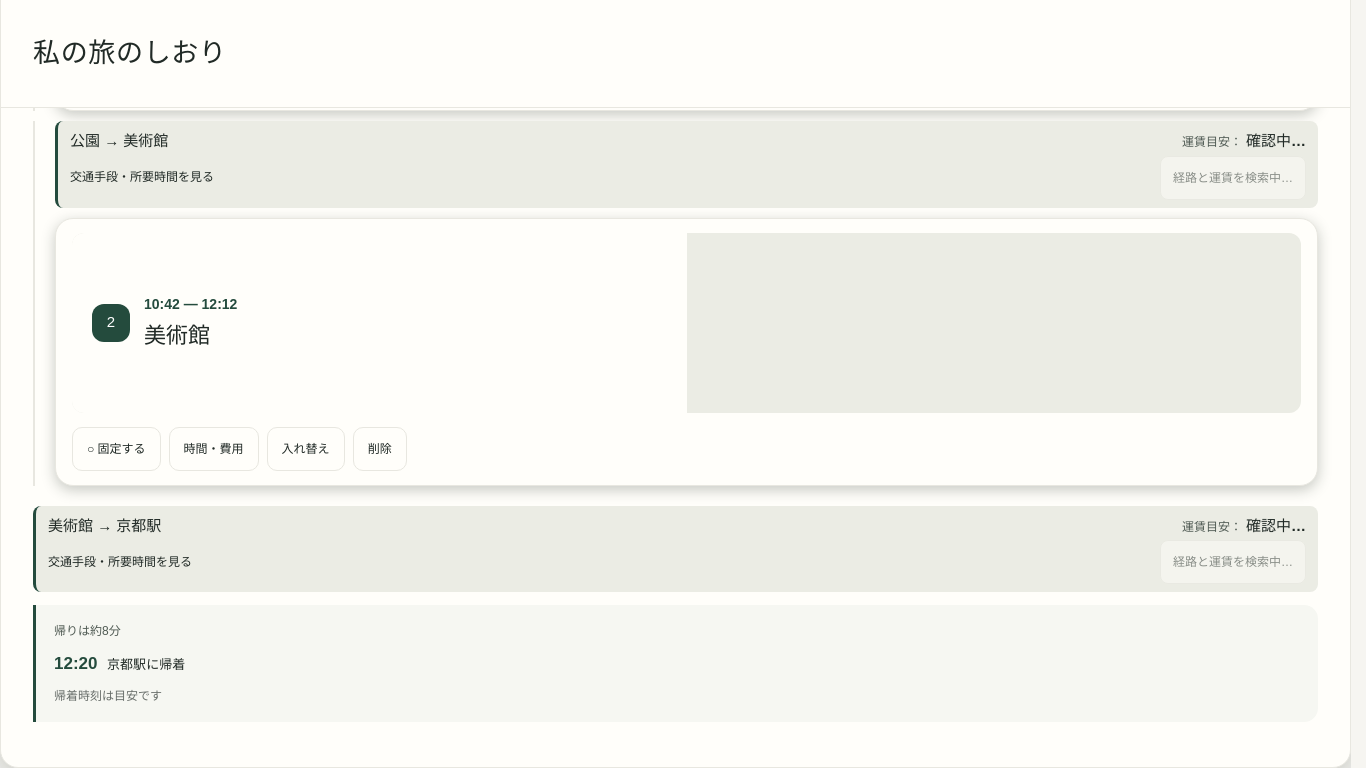
it: DayTripEditor › offers a clear empty itinerary without editing controls
(page scrolled)
Click the button with aria-label "美術館を削除": [380, 449] box left=353, top=427, right=407, bottom=471
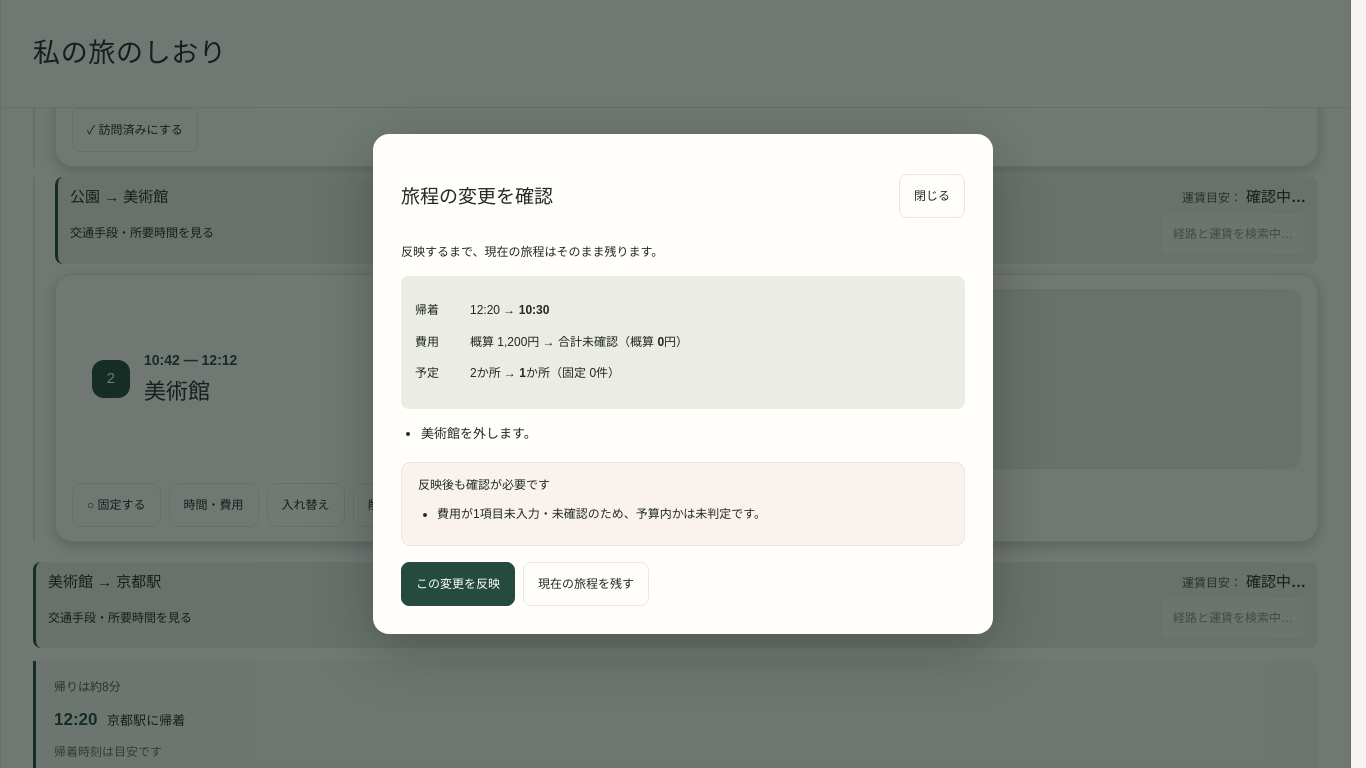
Click the button "この変更を反映": [458, 584] box left=401, top=562, right=515, bottom=606
(page scrolled)
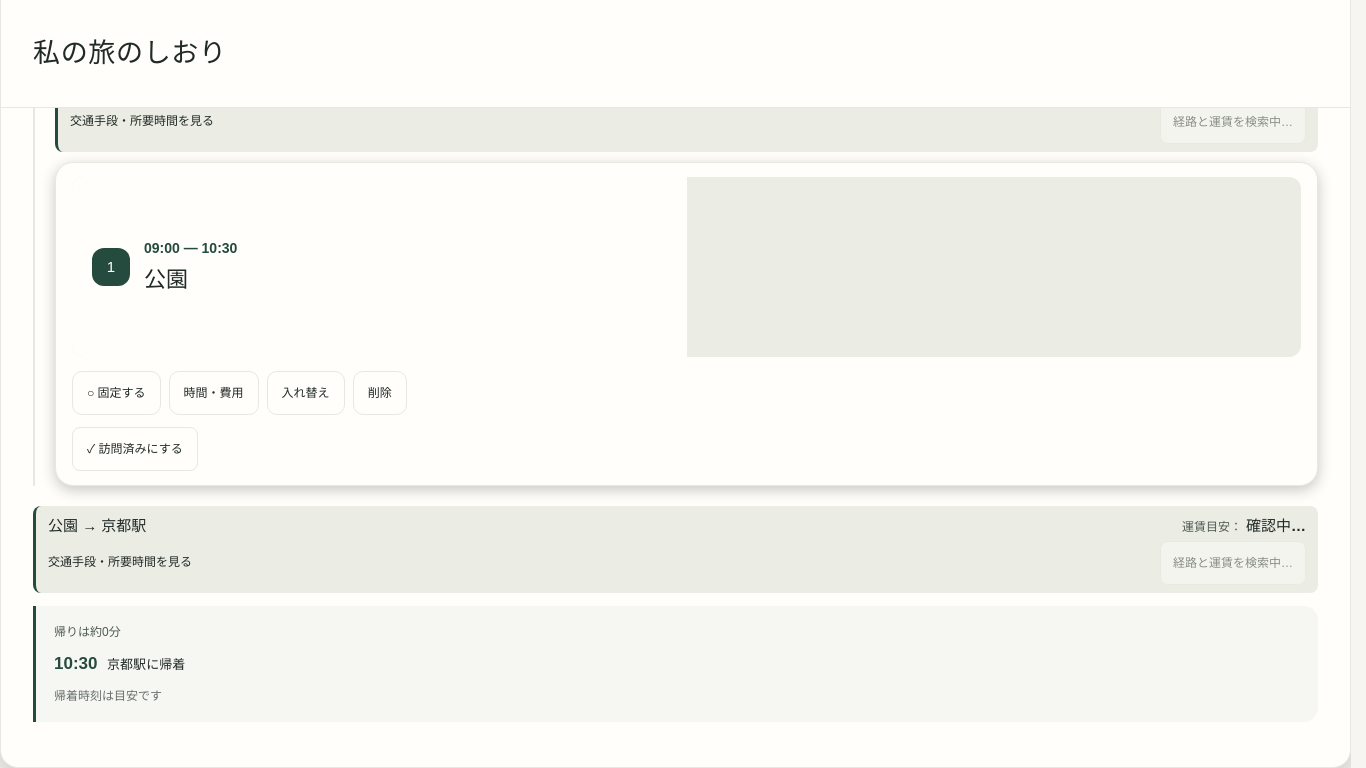
Click the button with aria-label "公園を削除": [380, 393] box left=353, top=371, right=407, bottom=415
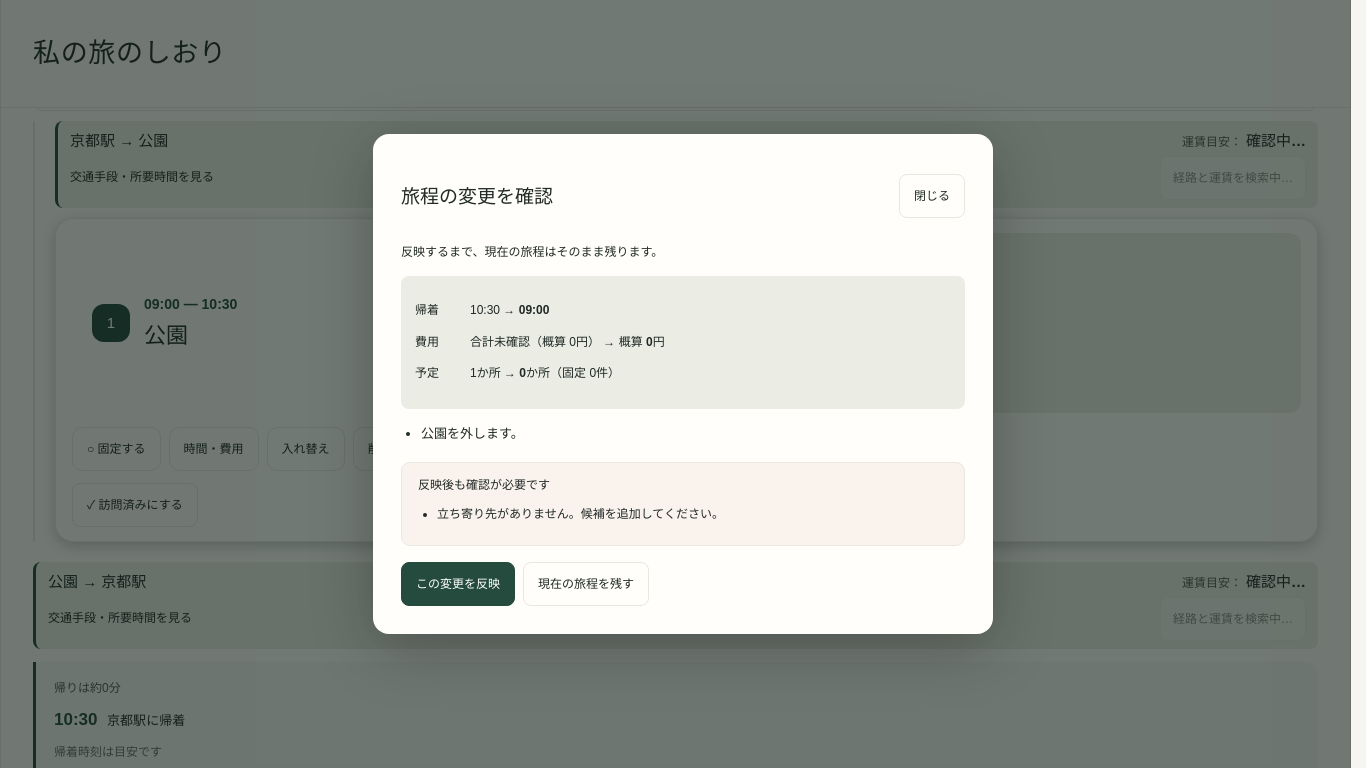
Click the button "この変更を反映": [458, 584] box left=401, top=562, right=515, bottom=606
(page scrolled)
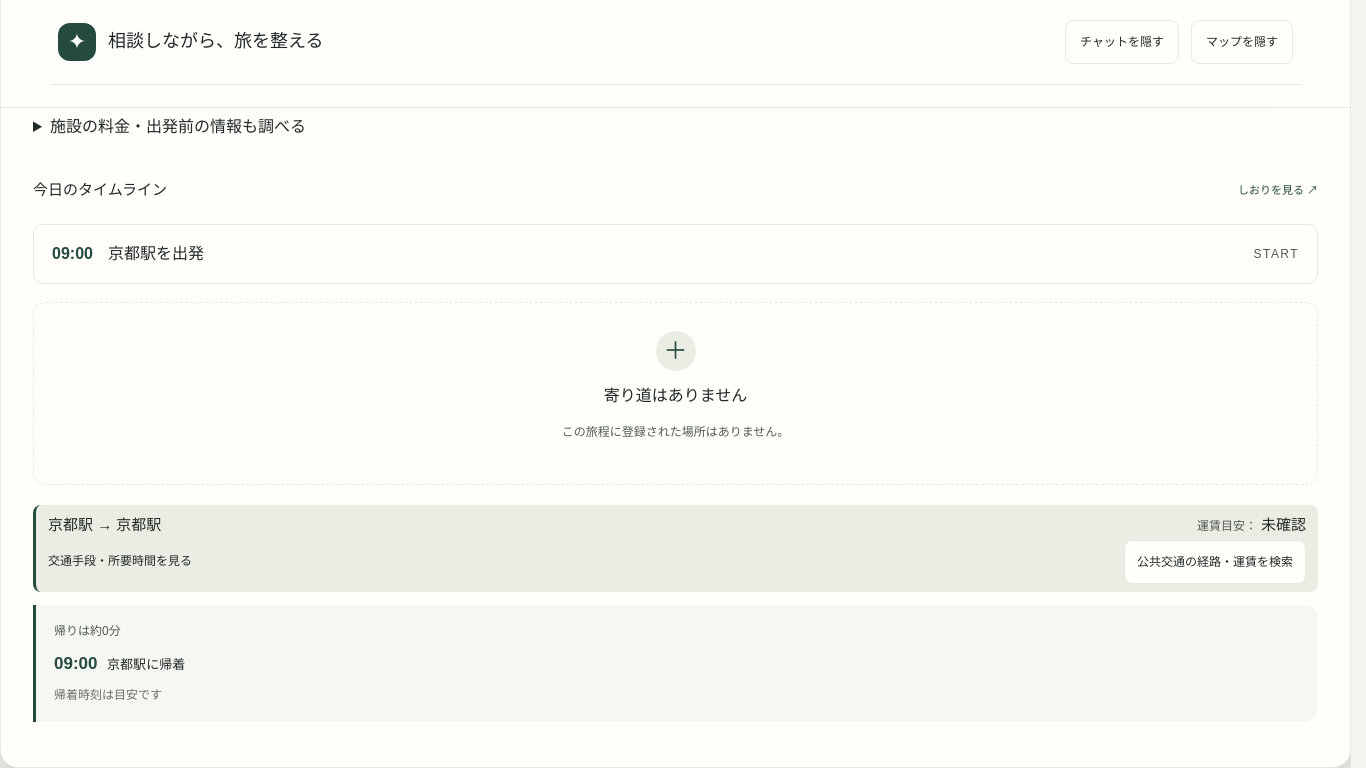
Expected: the heading "寄り道はありません" is shown, left=604, top=387, right=747, bottom=404
